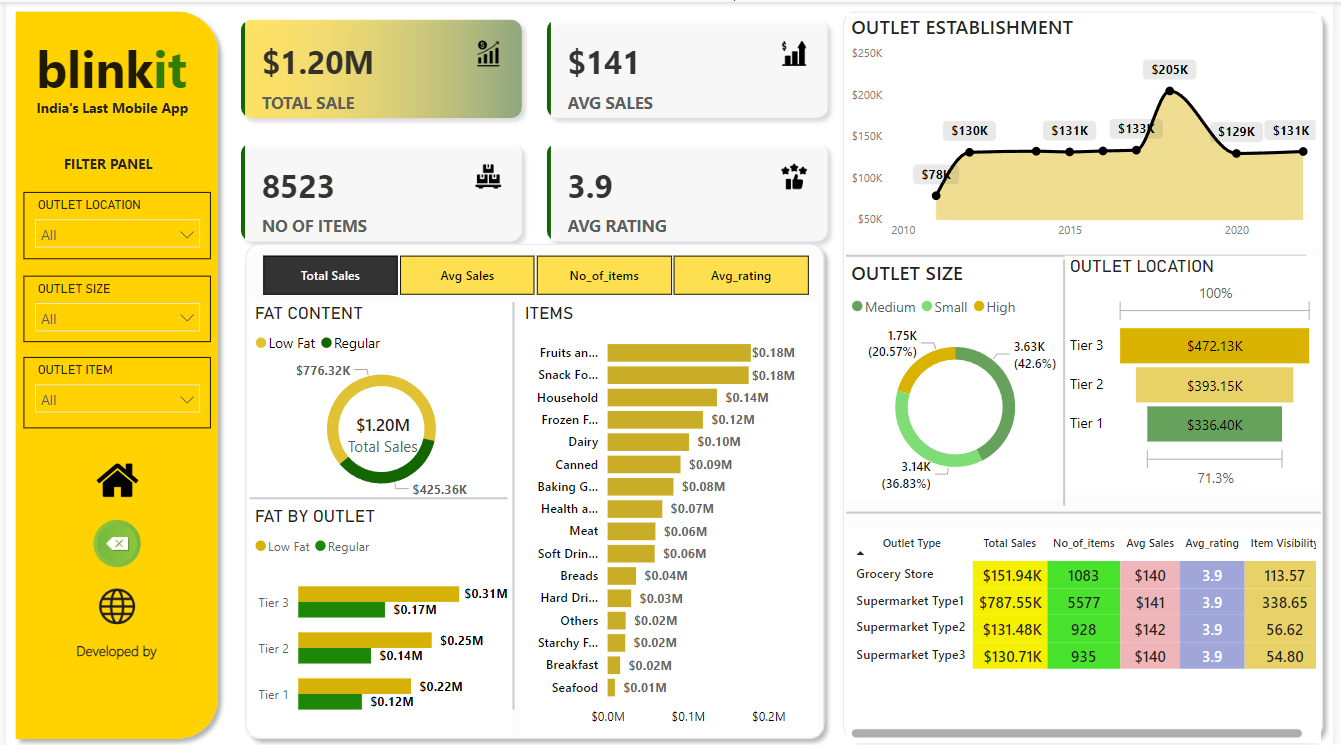

This screenshot's page, from the dashboard's own definition file:
{"tool":"powerbi","page":{"name":"Home","canvas":[1280,720],"ordinal":0},"visuals":[{"type":"shape","box":[0,0,213.5,720.2],"z":0},{"type":"textbox","box":[24.7,26.1,175.6,75.5],"z":1000},{"type":"textbox","box":[24.1,88.1,176.1,27.7],"z":2000},{"type":"cardVisual","fields":{"Data":["BlinkIT Grocery Data.Total Sales","BlinkIT Grocery Data.Avg Sales","BlinkIT Grocery Data.No_of_items","BlinkIT Grocery Data.Avg_rating"]},"box":[209.9,0,600.8,248.5],"z":3000},{"type":"shape","box":[222,224.4,576.7,495.8],"z":3500},{"type":"donutChart","title":"FAT CONTENT","fields":{"Y":["BlinkIT Grocery Data.Total Sales"],"Category":["BlinkIT Grocery Data.Item Fat Content"]},"box":[235.3,289.5,254.6,196.6],"z":4000},{"type":"slicer","fields":{"Values":["Metrics.Metrics"]},"box":[222,237.7,576.7,51.9],"z":6000},{"type":"cardVisual","fields":{"Data":["BlinkIT Grocery Data.Total Sales"]},"box":[307.6,380,112.2,61.5],"z":7000},{"type":"clusteredBarChart","title":"ITEMS","fields":{"Y":["BlinkIT Grocery Data.Total Sales"],"Category":["BlinkIT Grocery Data.Item Type"]},"box":[495.8,289.5,288.3,418.6],"z":8000},{"type":"clusteredBarChart","title":"FAT BY OUTLET","fields":{"Y":["BlinkIT Grocery Data.Total Sales"],"Category":["BlinkIT Grocery Data.Outlet Location Type"],"Series":["BlinkIT Grocery Data.Item Fat Content"]},"box":[235.3,486.2,254.6,222],"z":9000},{"type":"shape","box":[483.8,289.5,12.1,393.3],"z":10000},{"type":"shape","box":[798.7,0,481.4,720.2],"z":11000},{"type":"shape","box":[235.3,471.7,248.5,14.5],"z":12000},{"type":"lineChart","title":"OUTLET ESTABLISHMENT","fields":{"Category":["BlinkIT Grocery Data.Outlet Establishment Year"],"Y":["BlinkIT Grocery Data.Total Sales"]},"box":[810.7,10.9,458.4,226.8],"z":13000},{"type":"donutChart","title":"OUTLET SIZE","fields":{"Category":["BlinkIT Grocery Data.Outlet Size"],"Y":["CountNonNull(BlinkIT Grocery Data.Outlet Size)"]},"box":[810.7,248.5,211.1,230.4],"z":14000},{"type":"shape","box":[810.7,232.8,444,24.1],"z":15000},{"type":"funnel","title":"OUTLET LOCATION","fields":{"Category":["BlinkIT Grocery Data.Outlet Location Type"],"Y":["BlinkIT Grocery Data.Total Sales"]},"box":[1021.9,244.9,246.1,230.4],"z":16000},{"type":"shape","box":[1009.8,248.5,22.9,237.7],"z":17000},{"type":"pivotTable","fields":{"Rows":["BlinkIT Grocery Data.Outlet Type"],"Values":["BlinkIT Grocery Data.Total Sales","BlinkIT Grocery Data.No_of_items","BlinkIT Grocery Data.Avg Sales","BlinkIT Grocery Data.Avg_rating","Sum(BlinkIT Grocery Data.Item Visibility)"]},"box":[810.7,506.7,458.4,208.7],"z":18000},{"type":"shape","box":[810.7,486.2,458.4,13.3],"z":19000},{"type":"slicer","fields":{"Values":["BlinkIT Grocery Data.Outlet Location Type"]},"box":[16.9,183.4,181,65.1],"z":19001},{"type":"slicer","fields":{"Values":["BlinkIT Grocery Data.Outlet Size"]},"box":[16.9,264.2,181,63.9],"z":19002},{"type":"slicer","fields":{"Values":["BlinkIT Grocery Data.Outlet Type"]},"box":[16.9,342.6,181,68.8],"z":19003},{"type":"textbox","box":[50.7,142.4,115.8,32.6],"z":19004},{"type":"image","box":[79.6,436.7,55.5,49.5],"z":19005},{"type":"image","box":[79.6,493.4,55.5,59.1],"z":19006},{"type":"image","box":[79.6,555,55.5,56.7],"z":19007},{"type":"textbox","box":[62.7,611.7,97.7,45.8],"z":19008}]}

Visuals, with their boxes in screenshot pixels (x1, y1, x2, y2), scaled from the page's 1280x720 canvas onto the 1341x745 screenshot:
shape: 0,0,224,744
textbox: 26,27,210,105
textbox: 25,91,210,120
cardVisual - BlinkIT Grocery Data.Total Sales x BlinkIT Grocery Data.Avg Sales: 220,0,849,257
shape: 233,232,837,744
"FAT CONTENT" donutChart: 247,300,513,503
slicer - Metrics.Metrics: 233,246,837,300
cardVisual - BlinkIT Grocery Data.Total Sales: 322,393,440,457
"ITEMS" clusteredBarChart: 519,300,821,733
"FAT BY OUTLET" clusteredBarChart: 247,503,513,733
shape: 507,300,520,707
shape: 837,0,1340,744
shape: 247,488,507,503
"OUTLET ESTABLISHMENT" lineChart: 849,11,1330,246
"OUTLET SIZE" donutChart: 849,257,1070,496
shape: 849,241,1314,266
"OUTLET LOCATION" funnel: 1071,253,1328,492
shape: 1058,257,1082,503
pivotTable - BlinkIT Grocery Data.Outlet Type x BlinkIT Grocery Data.Total Sales: 849,524,1330,740
shape: 849,503,1330,517
slicer - BlinkIT Grocery Data.Outlet Location Type: 18,190,207,257
slicer - BlinkIT Grocery Data.Outlet Size: 18,273,207,339
slicer - BlinkIT Grocery Data.Outlet Type: 18,354,207,426
textbox: 53,147,174,181
image: 83,452,142,503
image: 83,511,142,572
image: 83,574,142,633
textbox: 66,633,168,680
